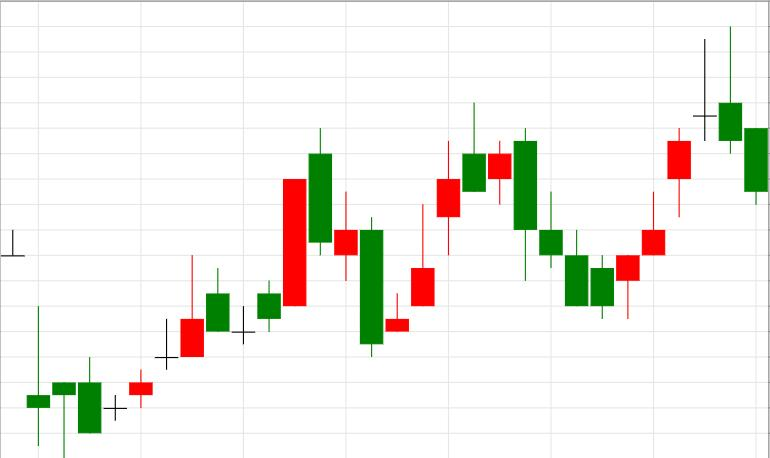bearish_engulfing_fall: (386, 103, 536, 333)
shooting_star_fall: (616, 26, 741, 319), (386, 101, 485, 334), (79, 256, 204, 434)
